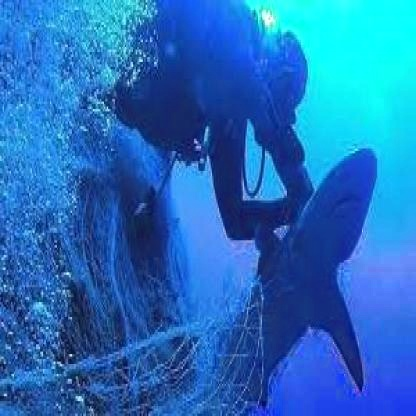net: (2, 312, 266, 416)
